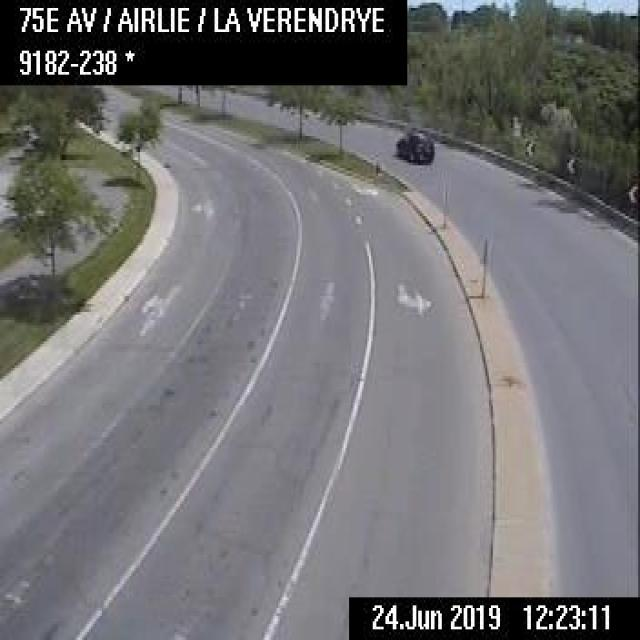vehicle: (392, 122, 434, 162)
